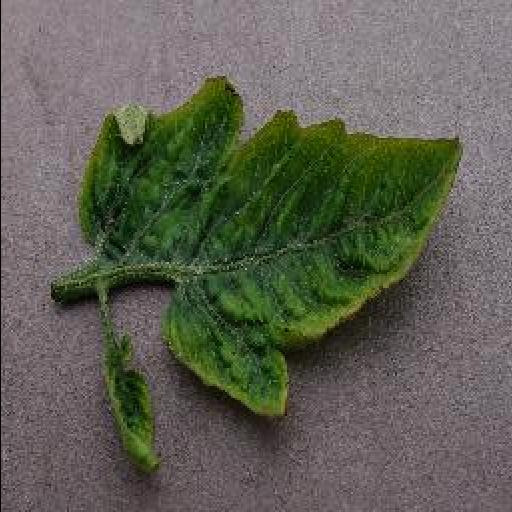disease_tomato: (78, 76, 464, 422), (100, 337, 162, 479)
